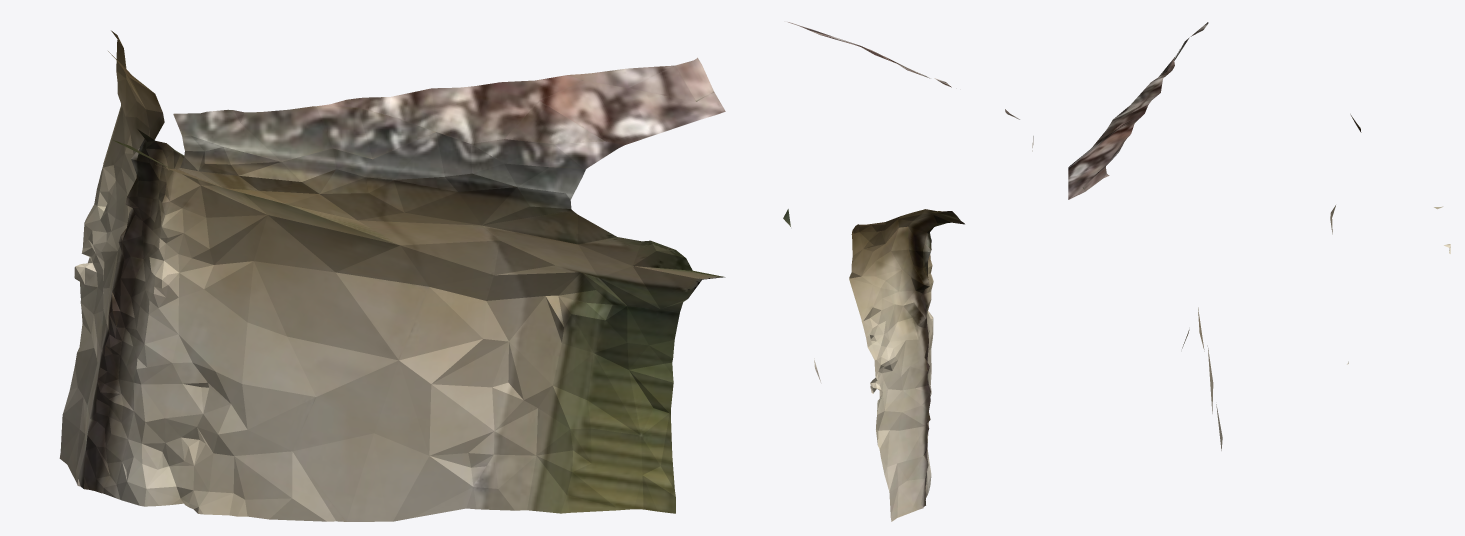
The picture shows the model from 3 angles, left to right: view 1: azimuth 30°, elevation 25°; view 2: azimuth 150°, elevation 25°; view 3: azimuth 270°, elevation 25°; orthographic projection. The views are drawn at different scales.
Size of the model in its own units: 1.67 by 1.67 by 1.67.
Materials: 3 (3 with a texture image).
